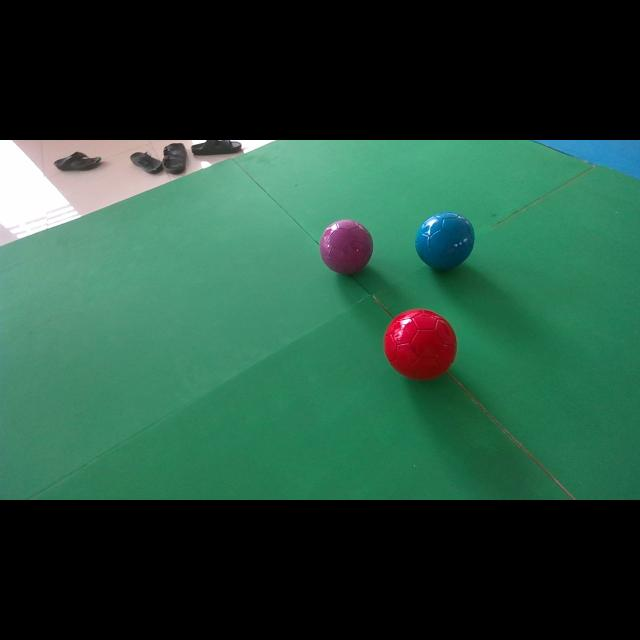B: (415, 211, 475, 270)
P: (320, 219, 372, 273)
R: (384, 309, 456, 379)
